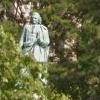Statue: (14, 8, 57, 78)
